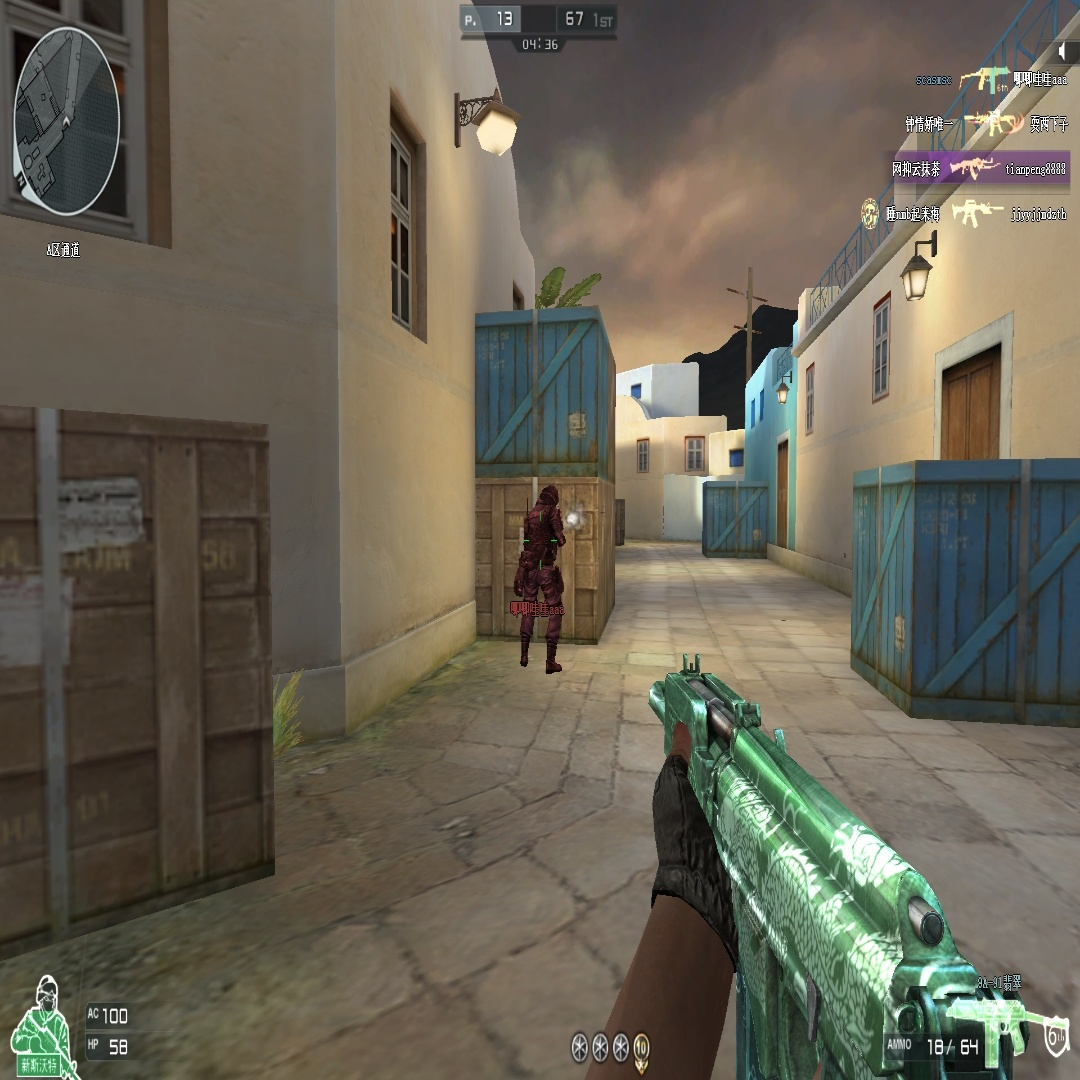head: (539, 485, 559, 505)
p: (511, 477, 566, 675)
